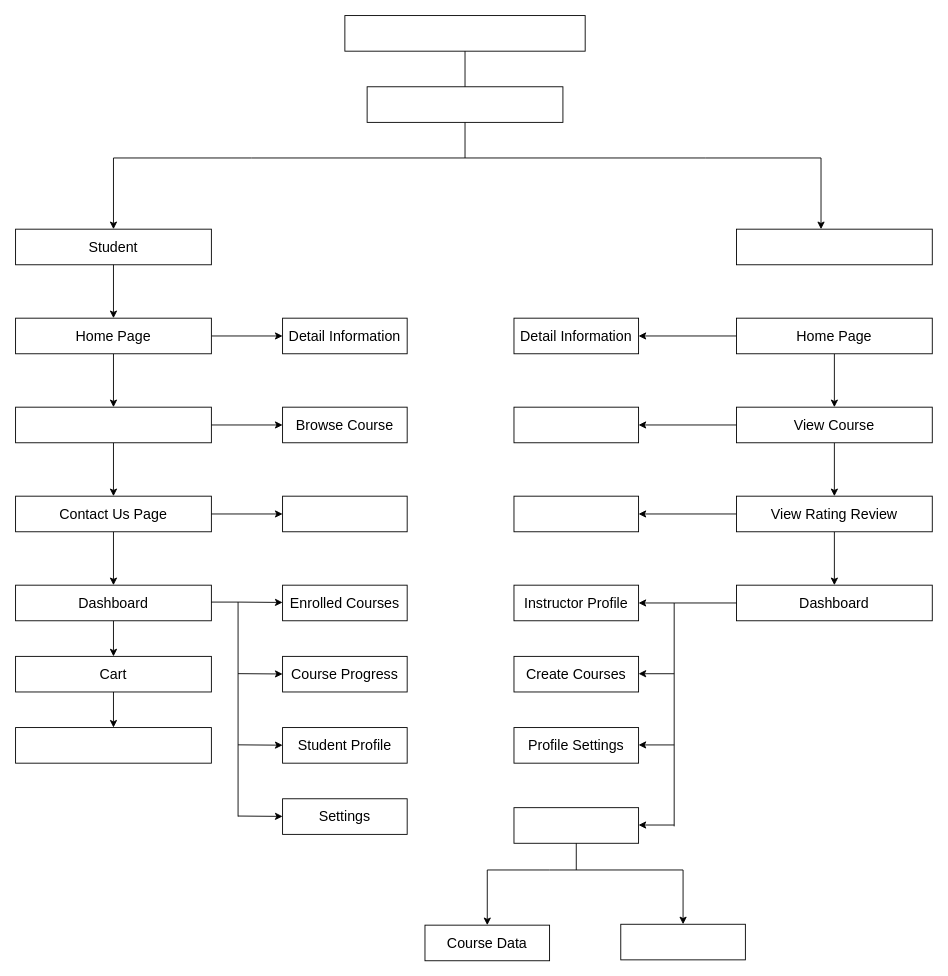
The diagram is 948 pixels wide and 976 high, and some of its shapes have lost their labels. Each missing label, with the centre of its shape:
"All Courses" goes at (576,424).
"Contact Us Form" goes at (344,513).
"Course Page" goes at (113,424).
"Instructor" goes at (834,246).
"Login" goes at (464,104).
"Payment Data" goes at (682,941).
"Read Reviews" goes at (576,513).
"Review and Ratings" goes at (113,745).
"StudyNotion Hirachy Structure" goes at (464,33).
"Visualize Data (Pie Chat)" goes at (576,825).
